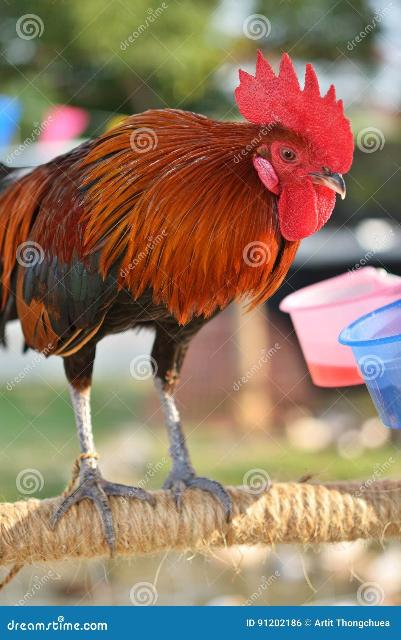Chicken: (1, 49, 356, 546)
